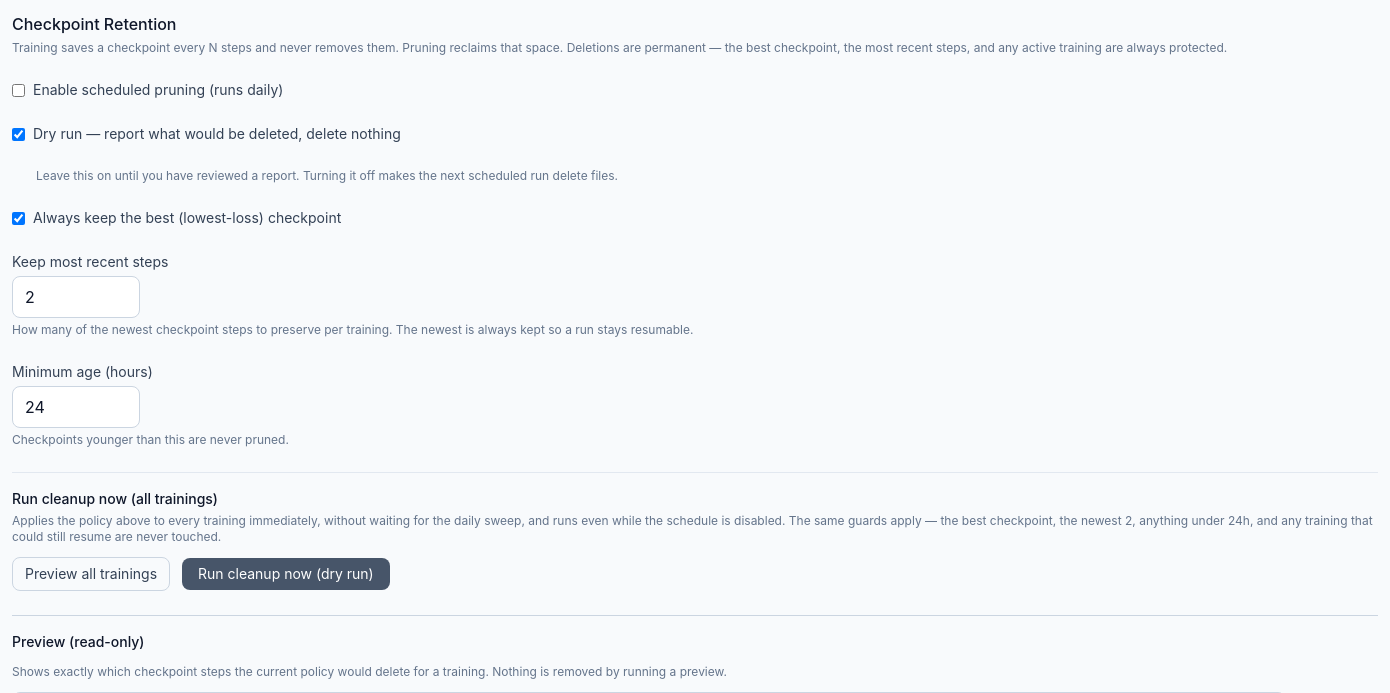
Test: Run cleanup now (all trainings) › fails CLOSED when the live policy cannot be read
Click the button "Run cleanup now (dry run)": {"x": 286, "y": 574} [182,558,390,590]
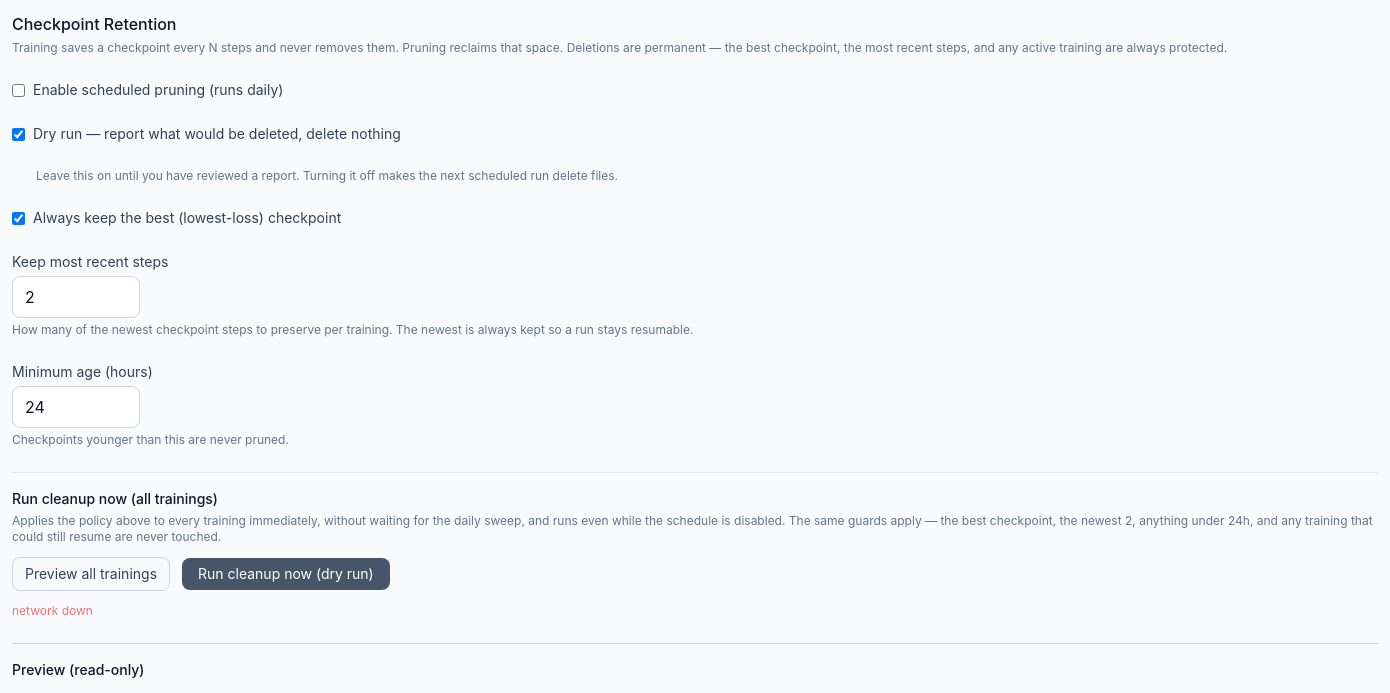
Result: the message "network down" is shown at [12,603,93,618]
